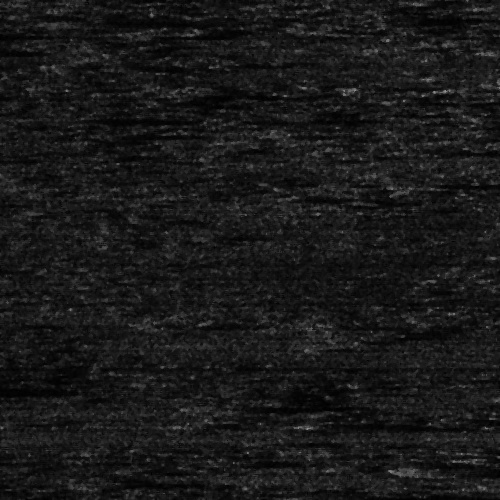object: (354, 180, 479, 189), (375, 465, 448, 478), (450, 452, 500, 465), (293, 420, 346, 429), (28, 18, 111, 23), (28, 116, 111, 121), (190, 402, 231, 409), (87, 132, 140, 135), (304, 495, 335, 500)
shadow: (320, 420, 489, 429), (412, 465, 500, 478), (0, 382, 100, 393), (319, 495, 500, 500), (211, 402, 339, 409), (417, 180, 500, 189), (0, 27, 64, 38), (0, 44, 46, 57), (70, 116, 179, 121), (70, 18, 175, 23), (114, 132, 203, 135)
